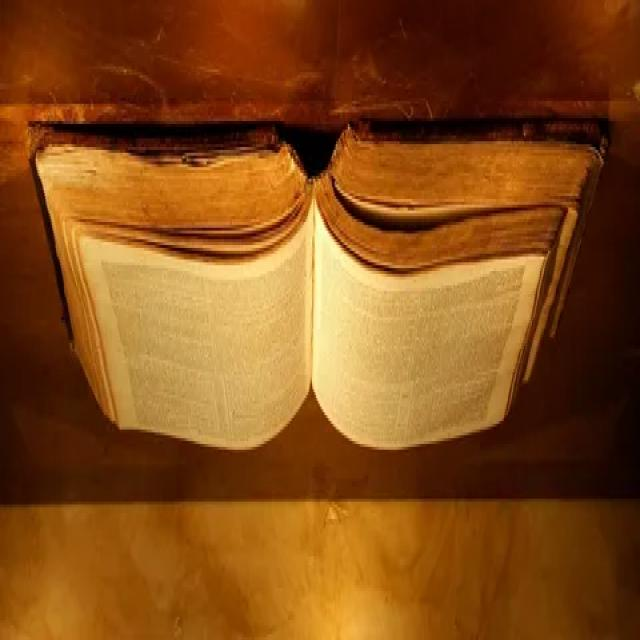book: (19, 83, 612, 465)
